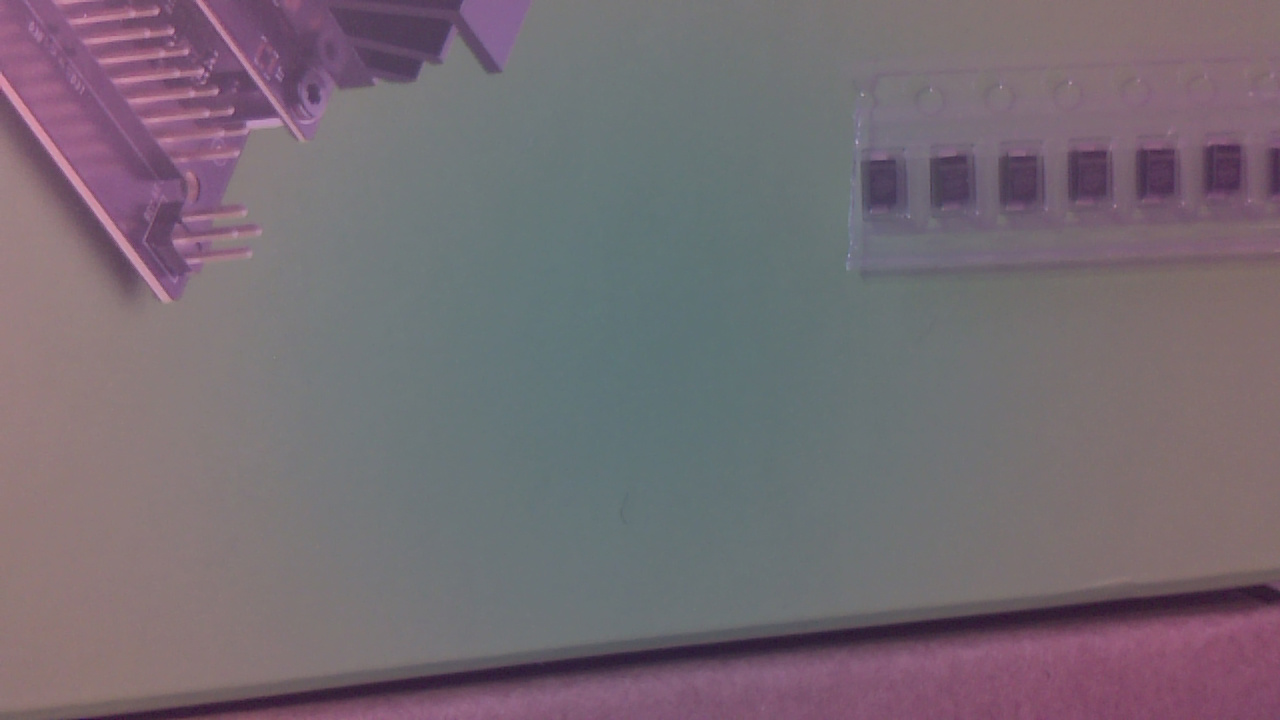Diode: (1002, 152, 1050, 222), (1142, 142, 1184, 214), (935, 151, 980, 218), (861, 162, 911, 222), (1071, 147, 1115, 212), (1206, 140, 1248, 207)
